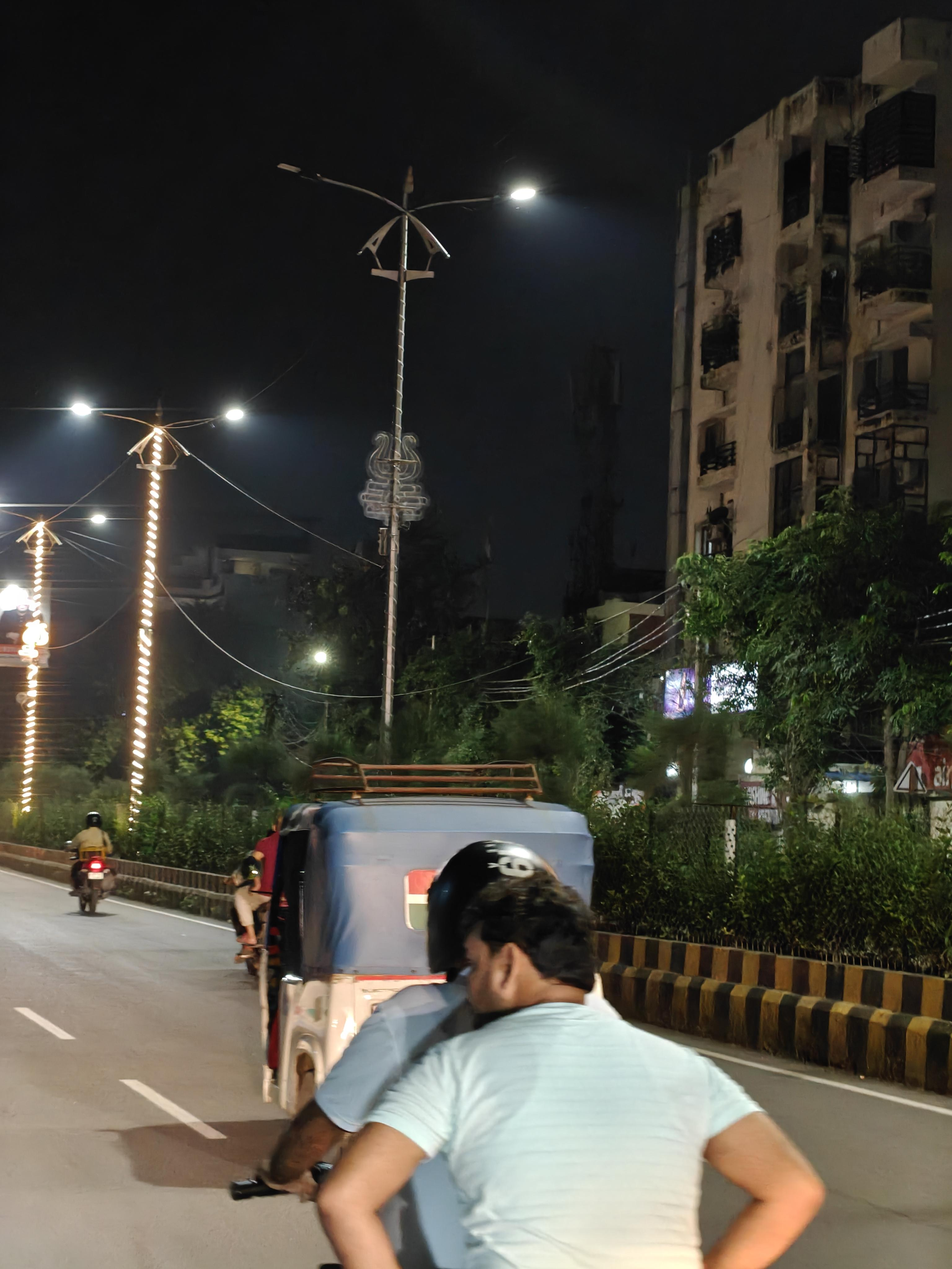streetlight: (276, 160, 400, 212)
